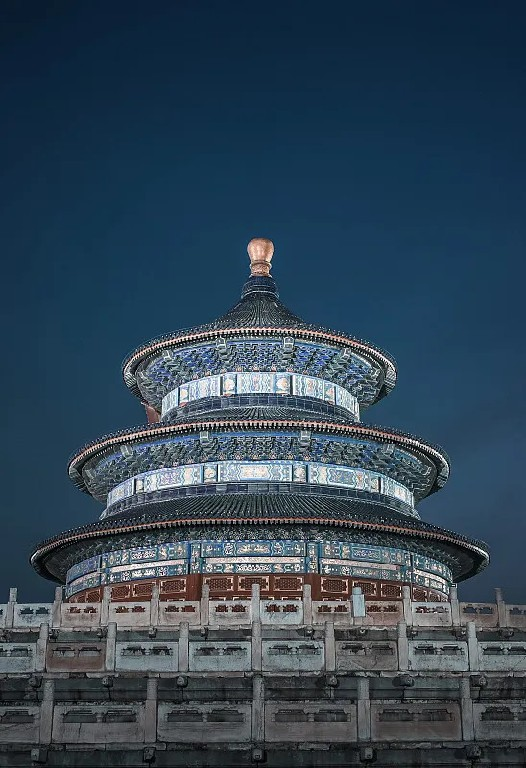Heaven: (29, 235, 489, 601)
